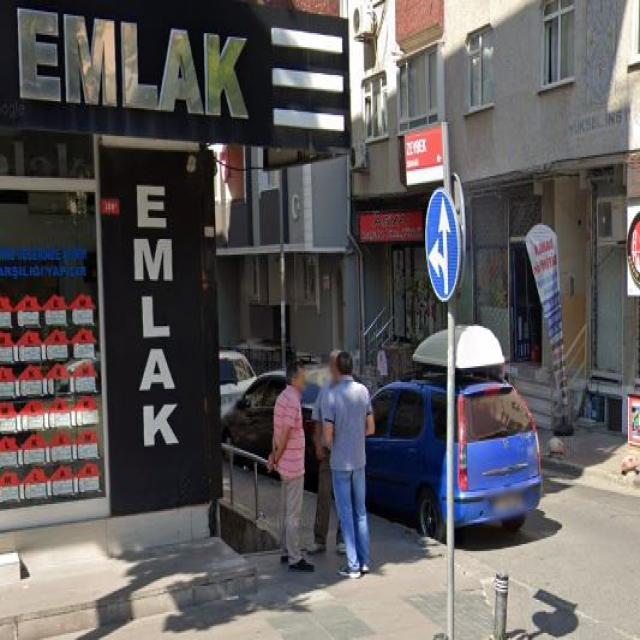ilerisol: (425, 188, 459, 302)
